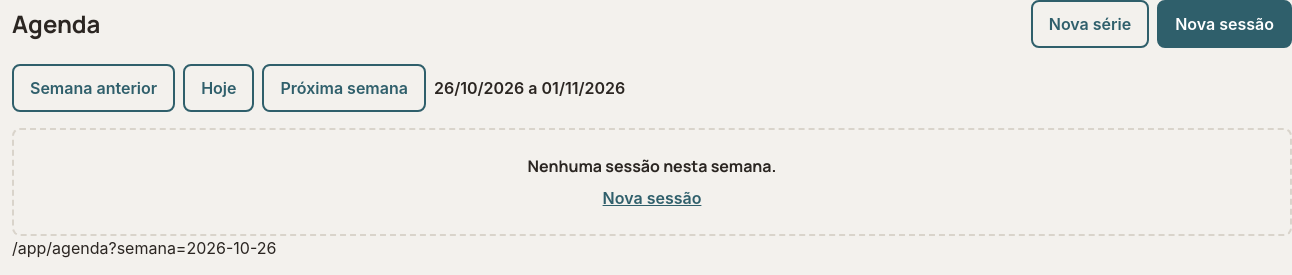
Agenda da semana (AGE-03) › navegação da semana vai para a URL (anterior e próxima)
The image size is (1292, 275).
Check: the text "Nenhuma sessão nesta semana." is shown, box [528,155,776,177]
Click the button "Próxima semana".
click(344, 88)  # box [262,64,426,112]
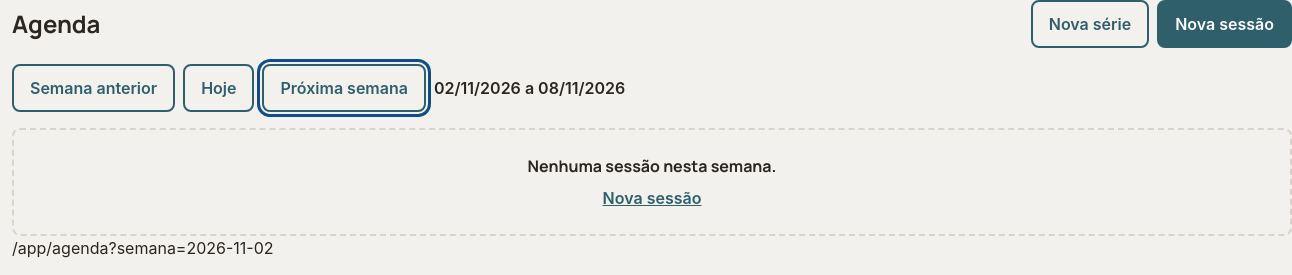
Check: the text with test id "loc" reads "/app/agenda?semana=2026-11-02", box [12,238,274,258]
Click the button "Semana anterior".
click(94, 88)  # box [12,64,175,112]
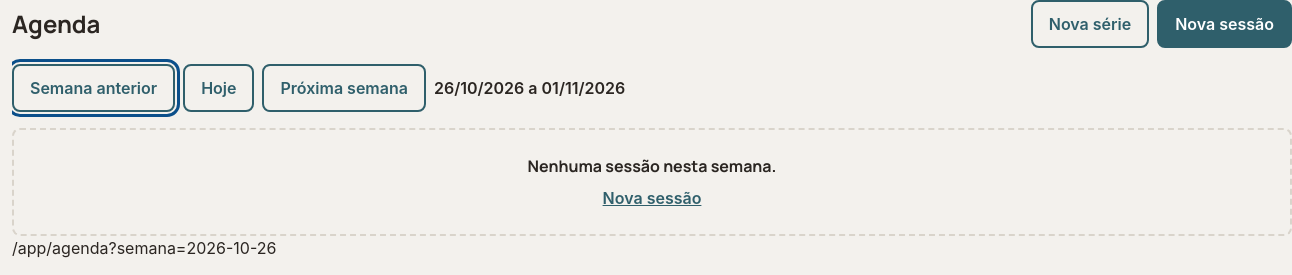
Click the button "Semana anterior".
click(94, 88)  # box [12,64,175,112]
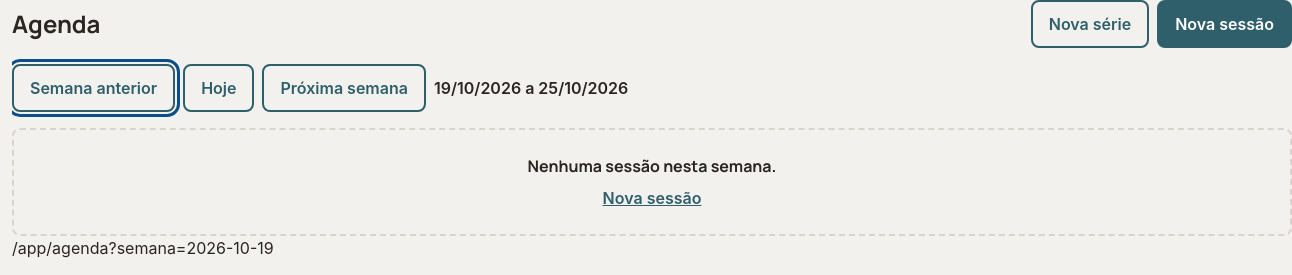
Check: the text with test id "loc" reads "/app/agenda?semana=2026-10-19", box [12,238,274,258]
